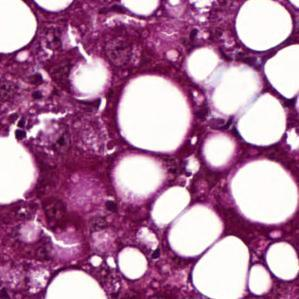steatosis: (230, 160, 299, 225), (234, 0, 292, 53), (0, 0, 39, 56), (46, 267, 107, 299), (265, 240, 299, 282)
